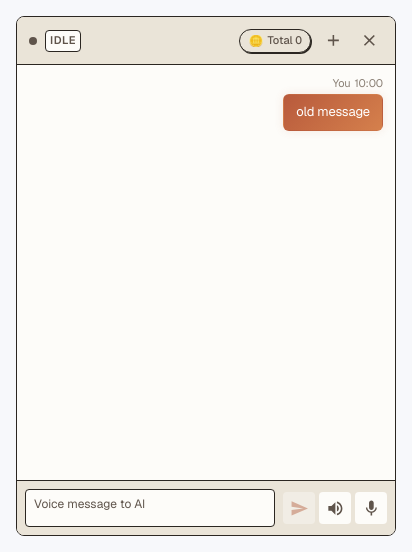
Test: AiAssistant › starts a new chat from new_chat intent
The image size is (412, 552).
Expected: the text "old message" is shown, [283,94,383,131]
Type "new chat" into the text box named "Message AI Assistant" at (150, 508), box [34,496,266,520]
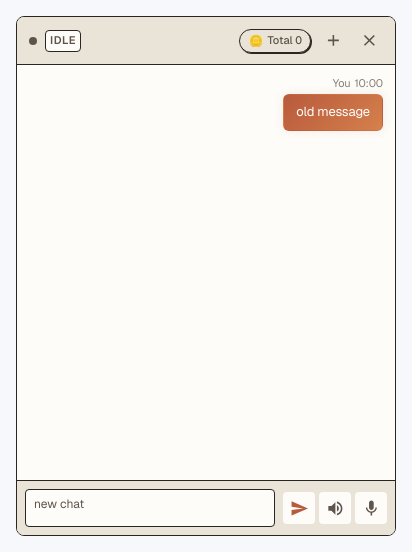
Click the button named "Send message" at (299, 508), box [283,492,315,524]
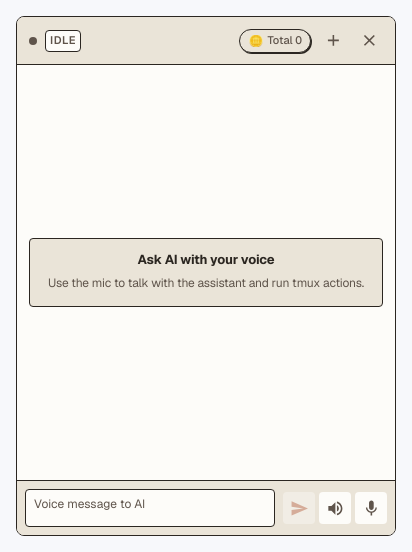
Expected: the text "new chat" is not shown
Expected: the text "Ask AI with your voice" is shown, [138,251,274,268]
Expected: the text "old message" is gone
